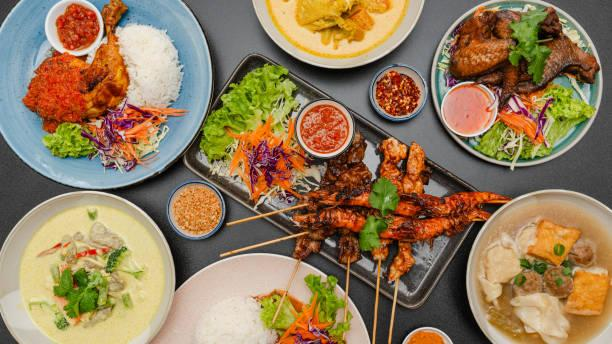Braised Crucian Carp: (205, 66, 493, 287), (3, 0, 211, 190), (430, 1, 600, 171), (0, 191, 174, 344), (464, 189, 611, 343), (43, 0, 104, 57)
